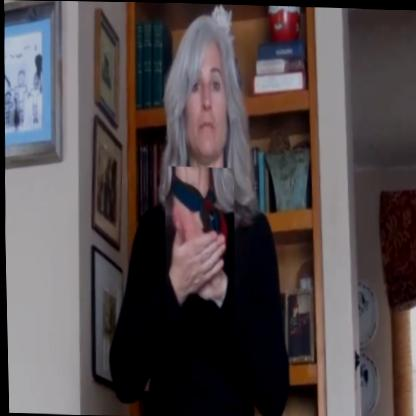NiceToMeetYou: (161, 165, 236, 331)
